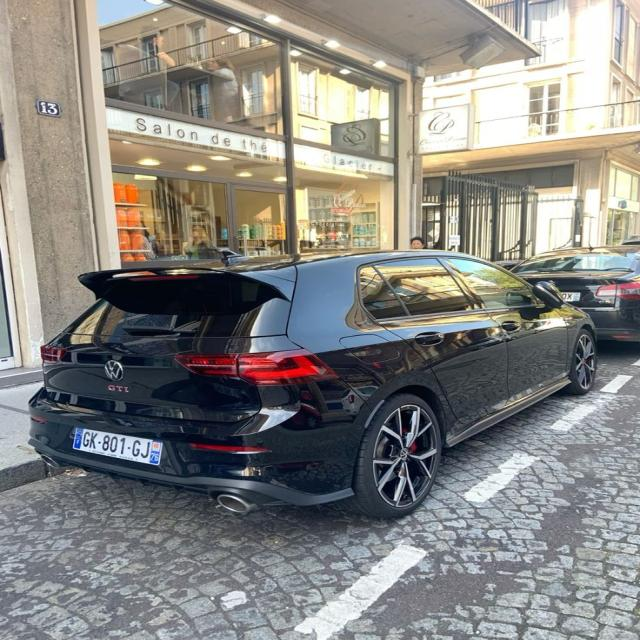Placas: (70, 426, 166, 467)
